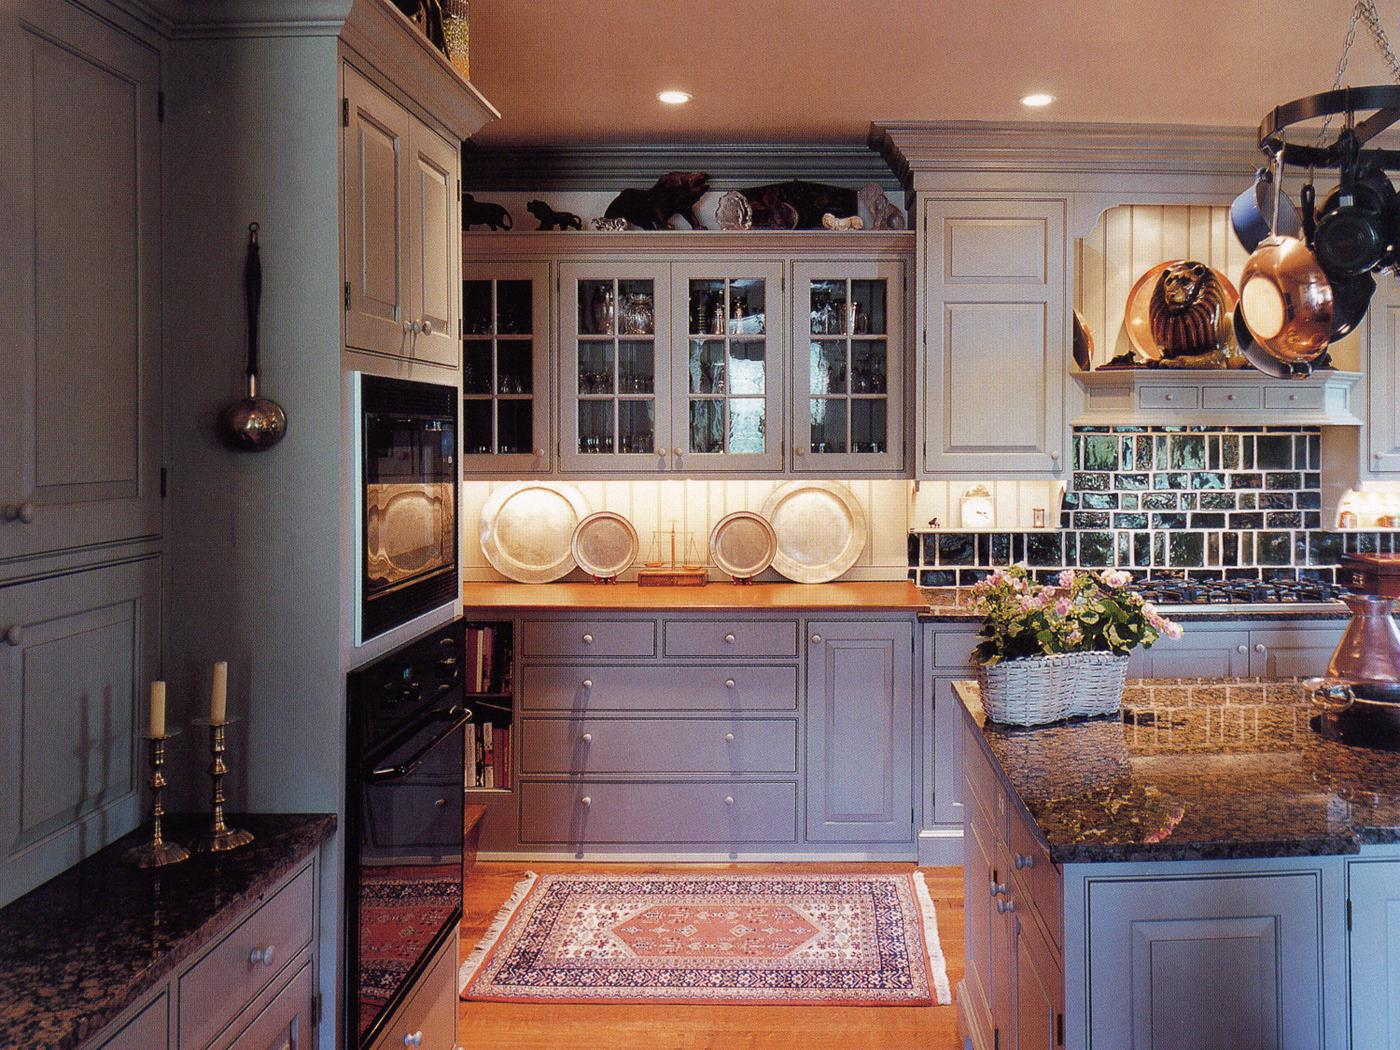Armario: (344, 37, 454, 1030)
